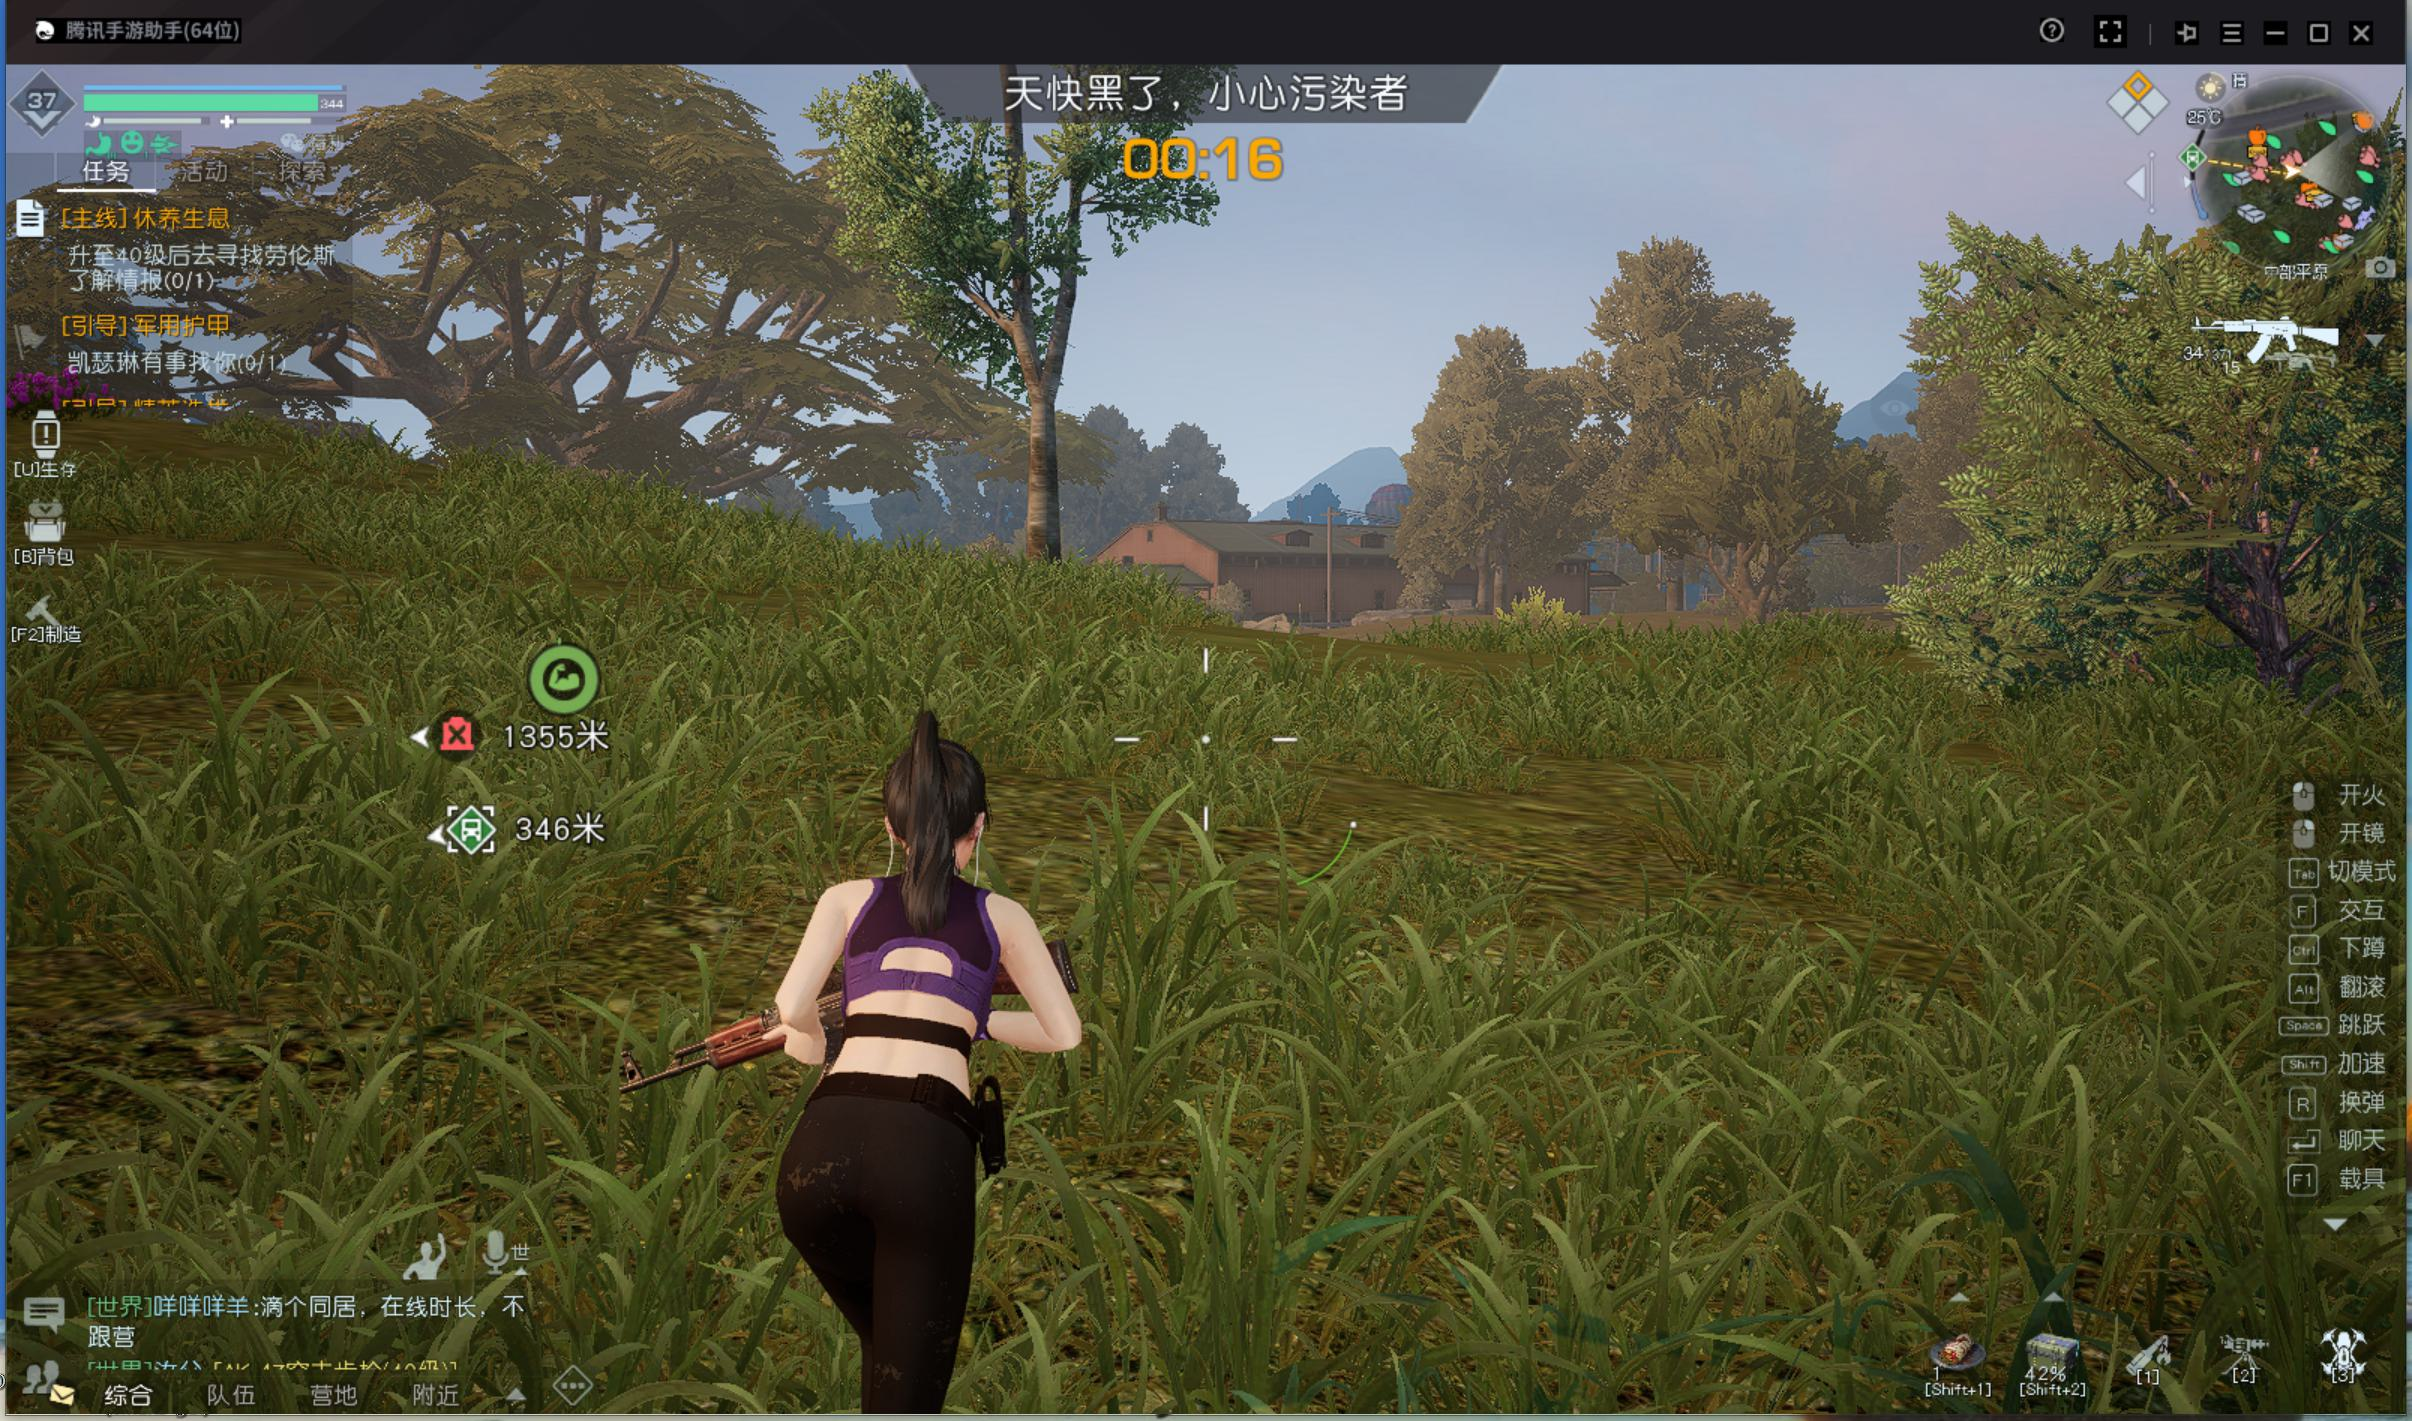tree: (1008, 377, 1072, 587)
